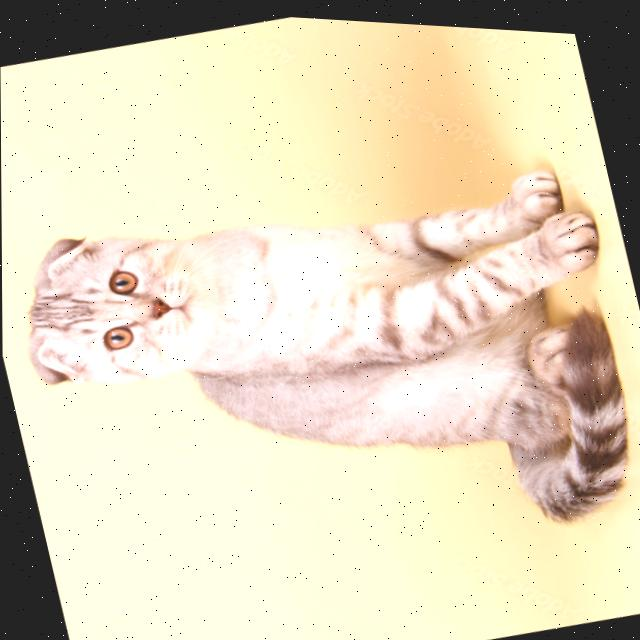Scottish Fold: (1, 110, 640, 632)
